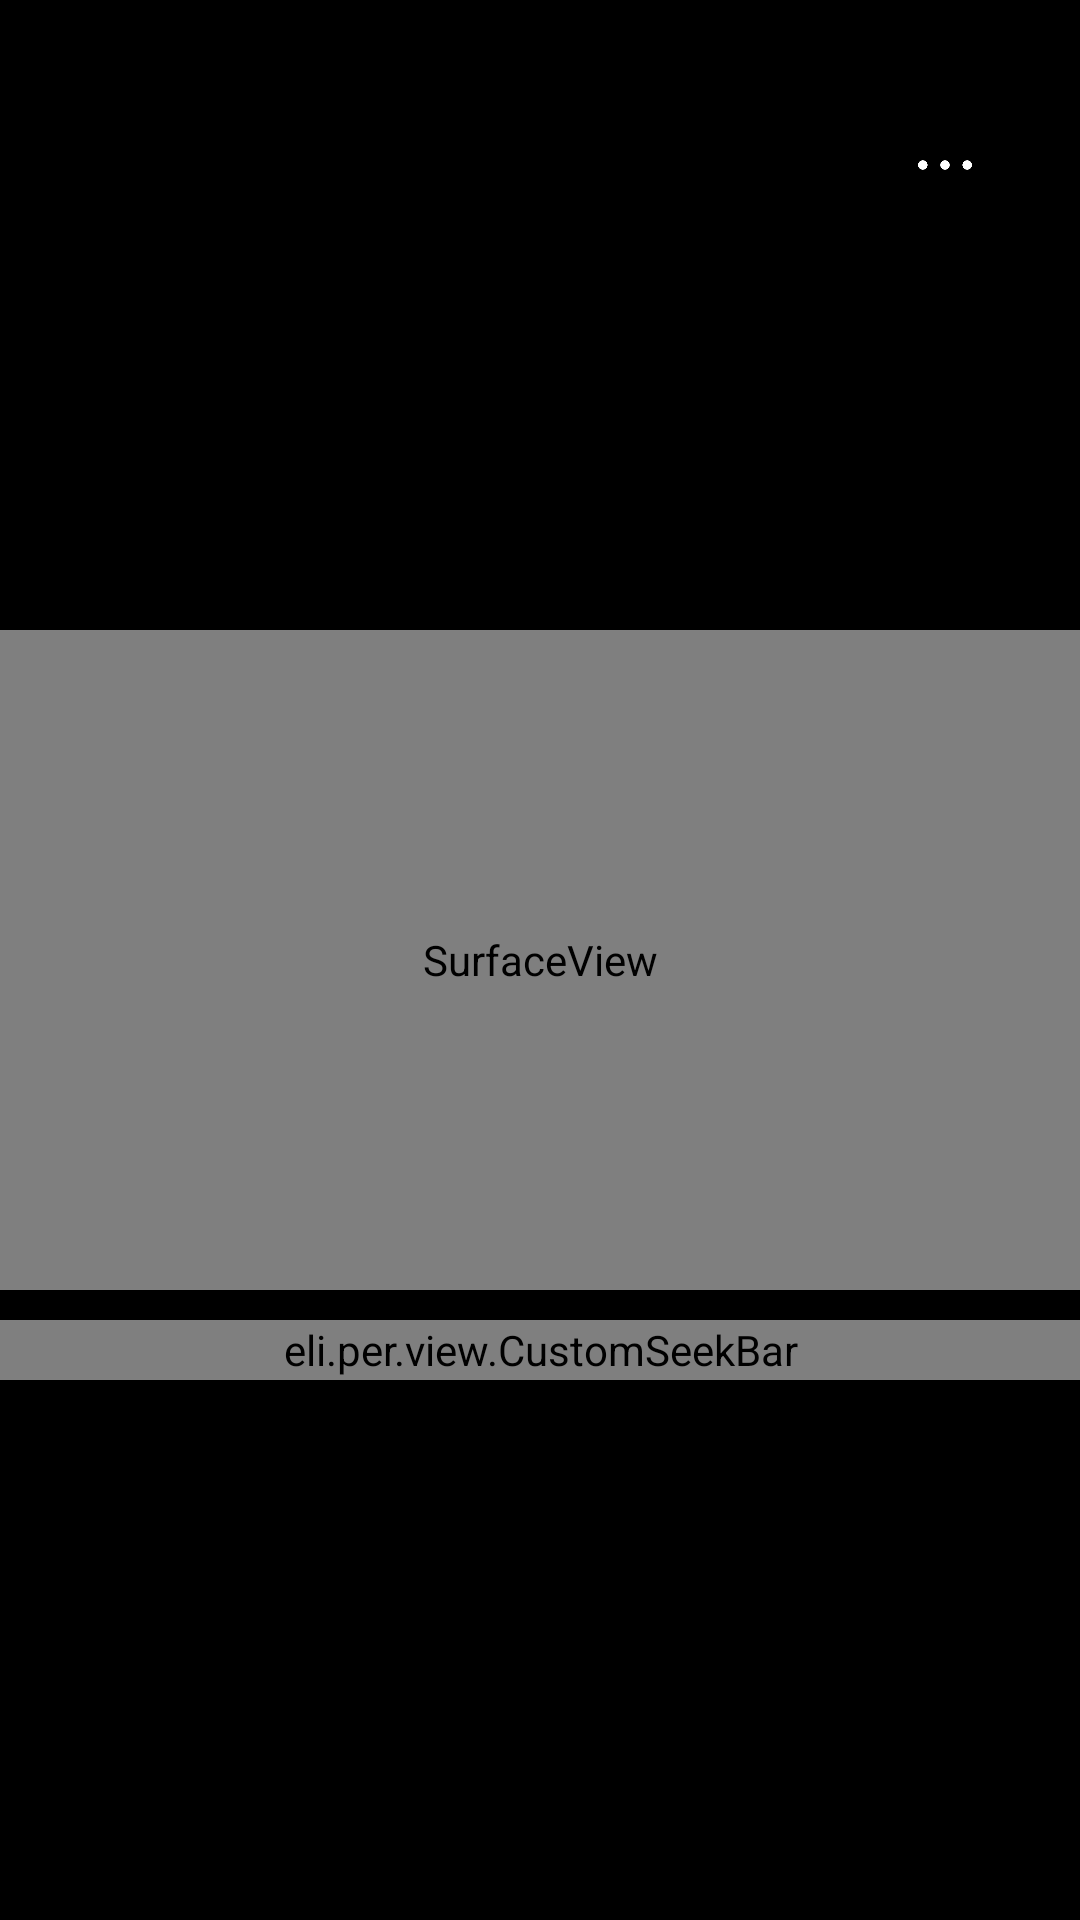

Where to tap for icons on this 1080x1920 app screen, as point (x, y):
more back: point (945, 165)
